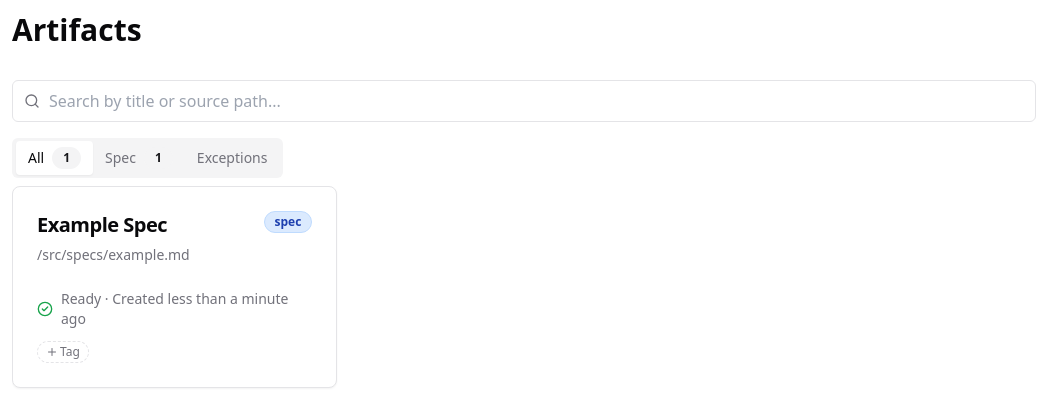
Test: ArtifactListView › shows the exceptions manager when the Exceptions tab is selected
Click the tab "Exceptions" at (232, 158), box top-left (185, 142), bottom-right (279, 174)
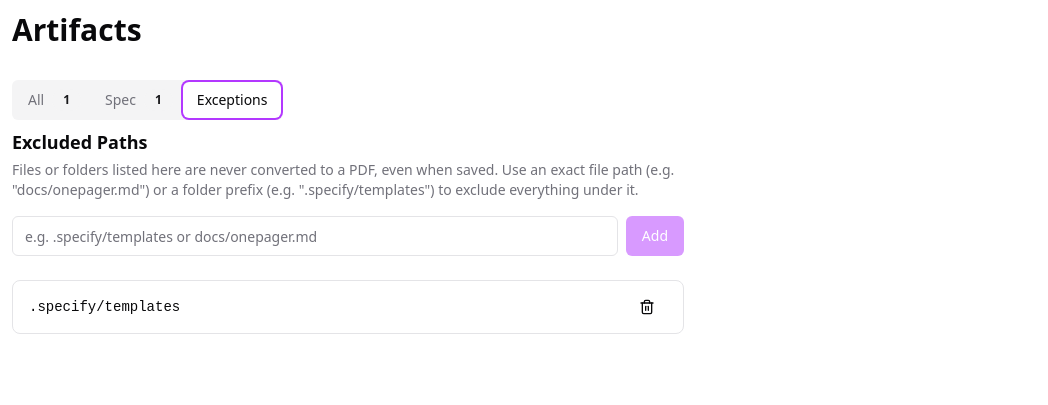
Expected: the text ".specify/templates" is shown, top-left (29, 297), bottom-right (180, 317)
